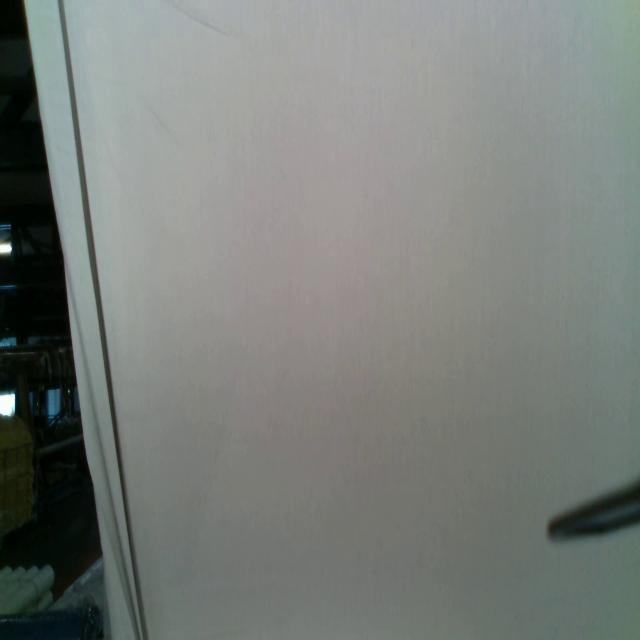crease: (168, 0, 242, 43)
